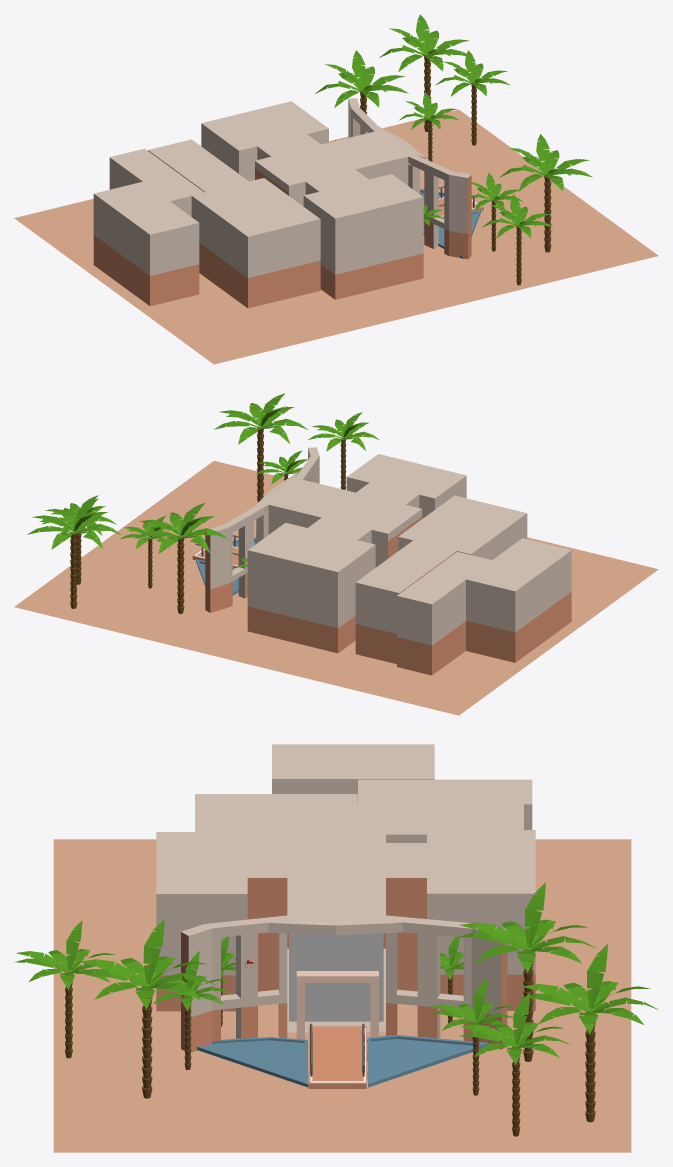
File: LeonJimenes002.fbx
3 views of the same model, one above another, from view 1: azimuth 30°, elevation 25°; view 2: azimuth 150°, elevation 25°; view 3: azimuth 270°, elevation 25° (orthographic). The views are drawn at different scales.
Parts seen in each view (by area): view 1: Plane, Barandas, Cube.002, Cube, Cube.001, Plane.012, Plane.015, Plane.011, Plane.016, Plane.010, Plane.013, Plane.014 (+1 smaller); view 2: Plane, Barandas, Cube.002, Cube, Cube.001, Plane.012, Plane.011, Plane.015, Plane.010, Plane.014, Plane.016, Cube.007 (+3 smaller); view 3: Plane, Barandas, Cube.002, Cube, png-clipart-glass-window-with-gray-wooden-frame-illustration, Cube.001, Plane.020, Plane.012, Plane.011, Plane.015, Plane.001, Plane.019 (+10 smaller).
Part boxes in pixels (left/top/right/bottom): Plane: left=14, top=109, right=658, bottom=364; Barandas: left=201, top=98, right=471, bottom=299; Cube.002: left=148, top=139, right=320, bottom=308; Cube: left=93, top=181, right=199, bottom=306; Cube.001: left=109, top=148, right=203, bottom=216; Plane.012: left=315, top=50, right=408, bottom=107; Plane.015: left=379, top=14, right=472, bottom=71; Plane.011: left=499, top=134, right=592, bottom=191; Plane.016: left=435, top=50, right=510, bottom=96; Plane.010: left=481, top=194, right=553, bottom=238; Plane.013: left=399, top=92, right=459, bottom=129; Plane.014: left=471, top=173, right=523, bottom=210; Plane: left=14, top=461, right=658, bottom=715; Barandas: left=205, top=447, right=466, bottom=653; Cube.002: left=355, top=495, right=527, bottom=664; Cube: left=466, top=538, right=571, bottom=662; Cube.001: left=397, top=551, right=491, bottom=675; Plane.012: left=134, top=502, right=227, bottom=553; Plane.011: left=214, top=393, right=307, bottom=444; Plane.015: left=27, top=498, right=120, bottom=549; Plane.010: left=308, top=412, right=379, bottom=451; Plane.014: left=255, top=450, right=307, bottom=484; Plane.016: left=41, top=495, right=116, bottom=535; Cube.007: left=177, top=536, right=184, bottom=613; Plane: left=53, top=839, right=631, bottom=1152; Barandas: left=156, top=830, right=535, bottom=1052; Cube.002: left=195, top=794, right=523, bottom=842; Cube: left=272, top=744, right=434, bottom=803; png-clipart-glass-window-with-gray-wooden-frame-illustration: left=289, top=933, right=383, bottom=1021; Cube.001: left=358, top=779, right=532, bottom=829; Plane.020: left=367, top=1035, right=488, bottom=1087; Plane.012: left=457, top=882, right=596, bottom=972; Plane.011: left=76, top=919, right=214, bottom=1009; Plane.015: left=519, top=944, right=658, bottom=1033; Plane.001: left=308, top=1026, right=366, bottom=1088; Plane.019: left=197, top=1037, right=308, bottom=1087.
Size of the model in its own units: 8700 by 1984 by 7414.
